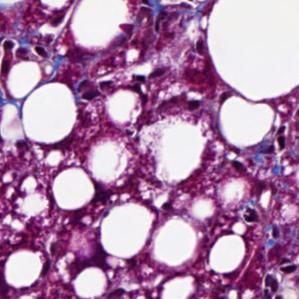inflammation: (97, 64, 162, 91), (259, 260, 299, 299), (0, 34, 54, 62), (241, 201, 266, 226)
